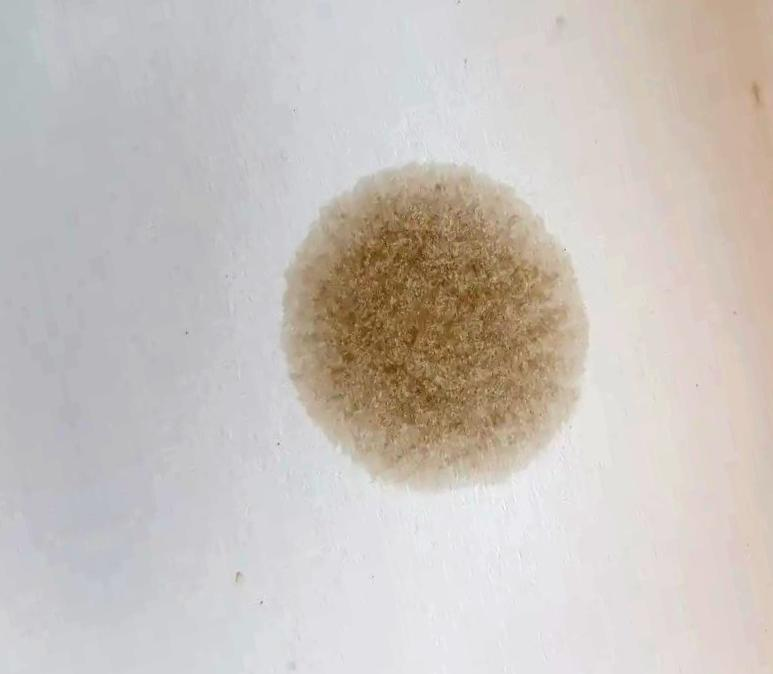stain: (273, 149, 593, 504)
